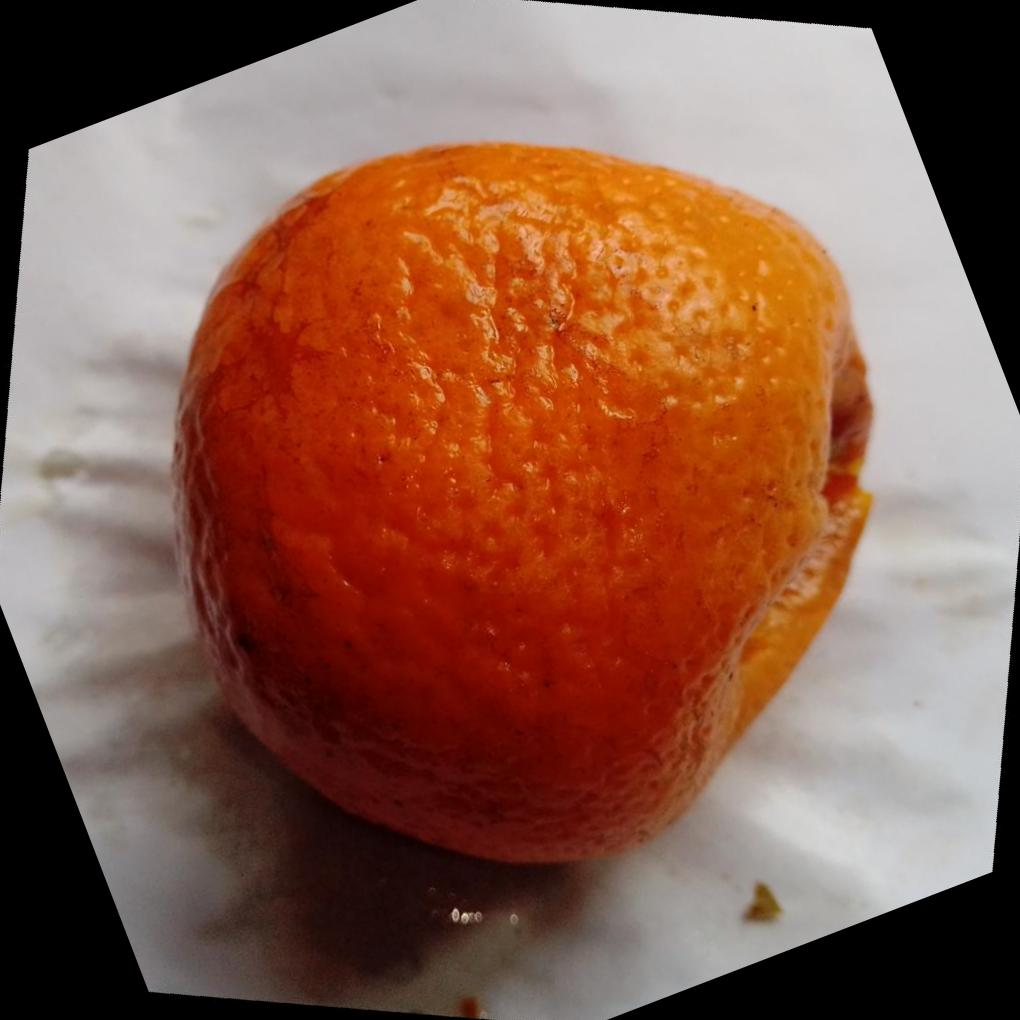FreshOrange: (168, 143, 874, 872)
